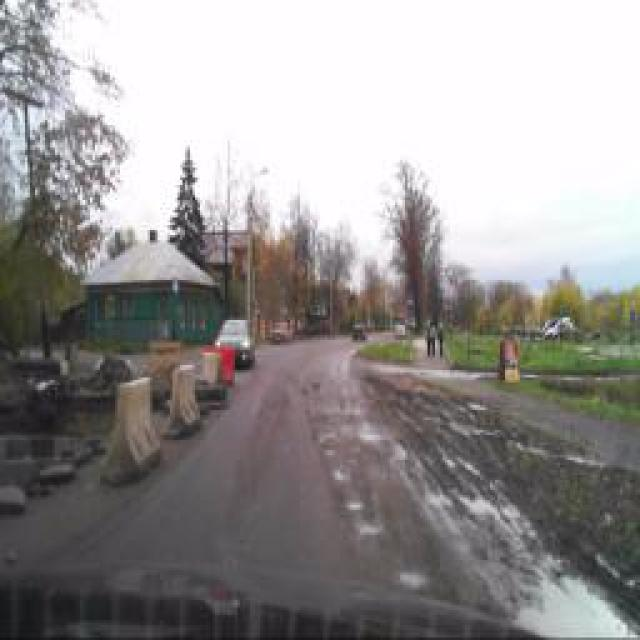sign: (406, 292, 414, 308)
